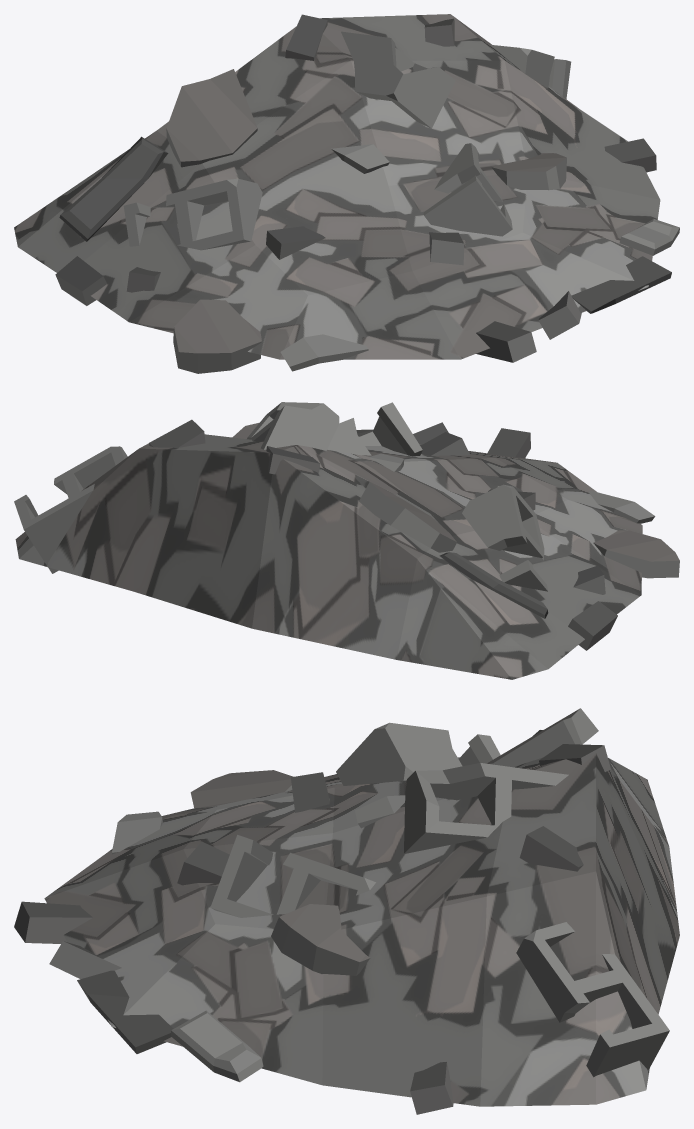
File: SM_Prop_Rubble_Pile_03.fbx
3 views of the same model, one above another, from view 1: azimuth 30°, elevation 25°; view 2: azimuth 150°, elevation 25°; view 3: azimuth 270°, elevation 25° (orthographic). The views are drawn at different scales.
Parts seen in each view (by area): view 1: SM_Prop_Rubble_Pile_03; view 2: SM_Prop_Rubble_Pile_03; view 3: SM_Prop_Rubble_Pile_03.
Boxes of the visible parts, <box> form: SM_Prop_Rubble_Pile_03: <box>14,14,679,373</box>; SM_Prop_Rubble_Pile_03: <box>14,402,679,679</box>; SM_Prop_Rubble_Pile_03: <box>14,708,679,1114</box>.
Bounding box in the file's own units: 224 × 69.5 × 185.
